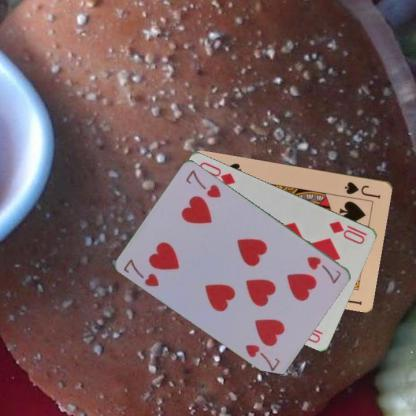10d: (326, 218, 368, 245)
7h: (304, 253, 344, 287), (121, 256, 160, 288)
Js: (342, 178, 382, 200)
